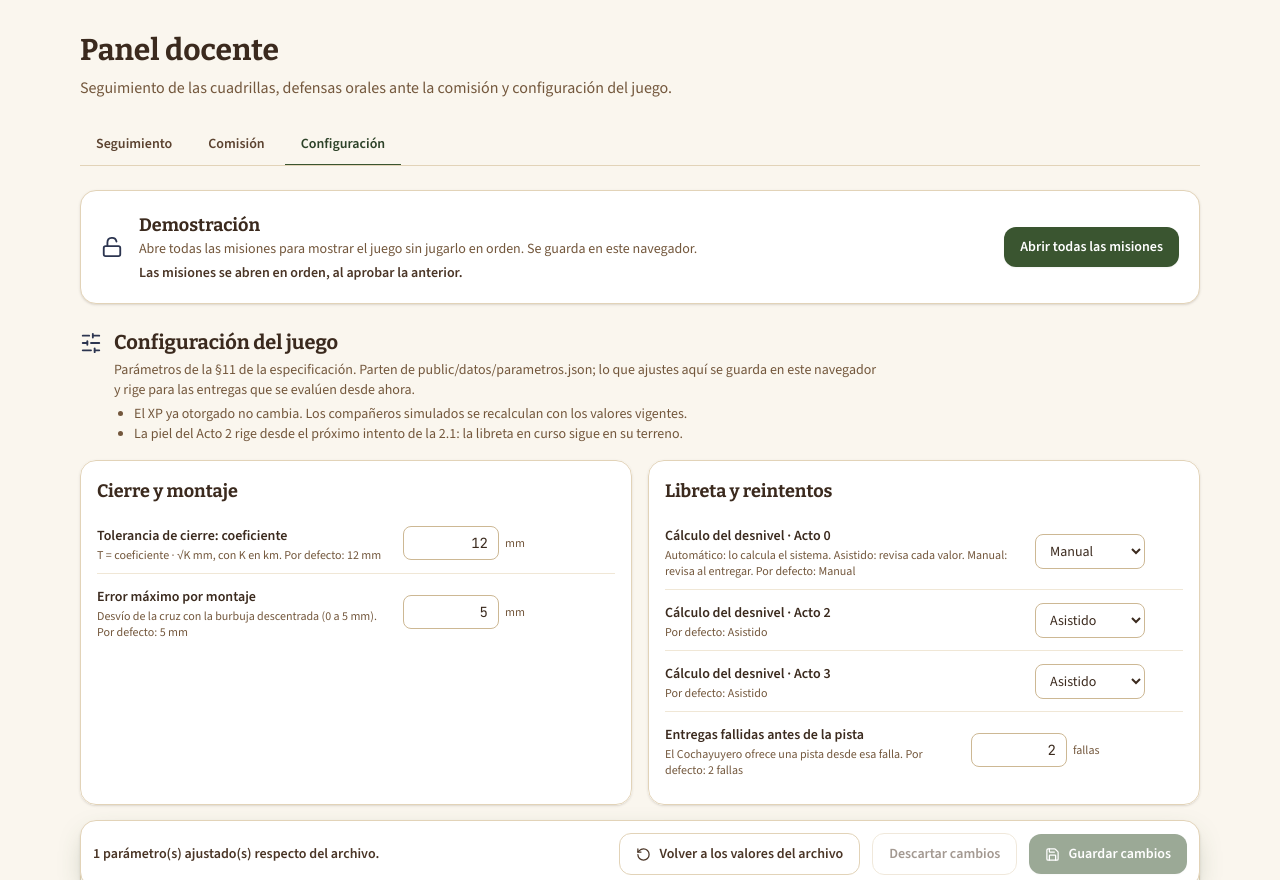
Test case: Panel docente · configuración › restablece todo a los valores del archivo tras confirmar
Click the button "Volver a los valores del archivo" at (740,854), box [619,833,860,875]
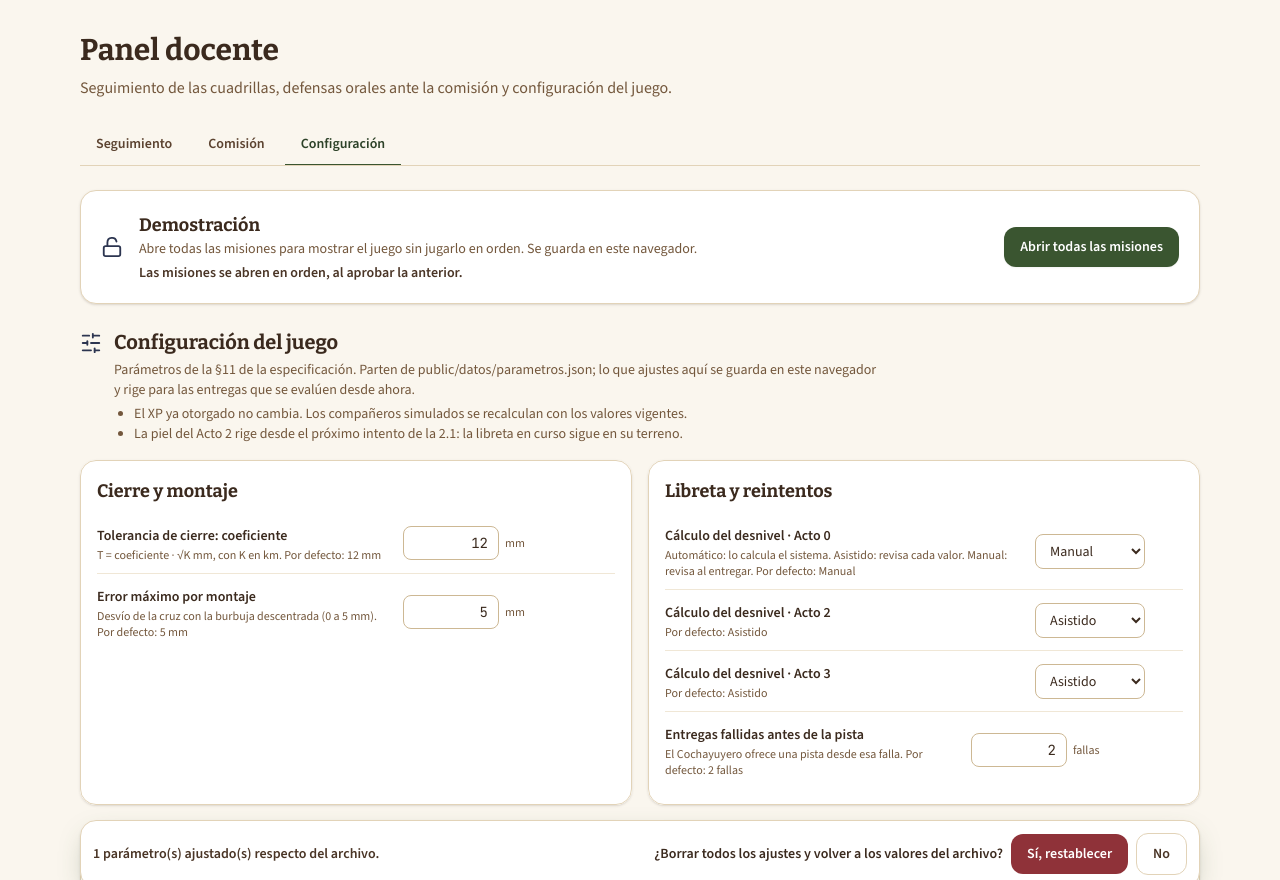
Click the button "Sí, restablecer" at (1070,854), box [1011,834,1128,874]
(page scrolled)
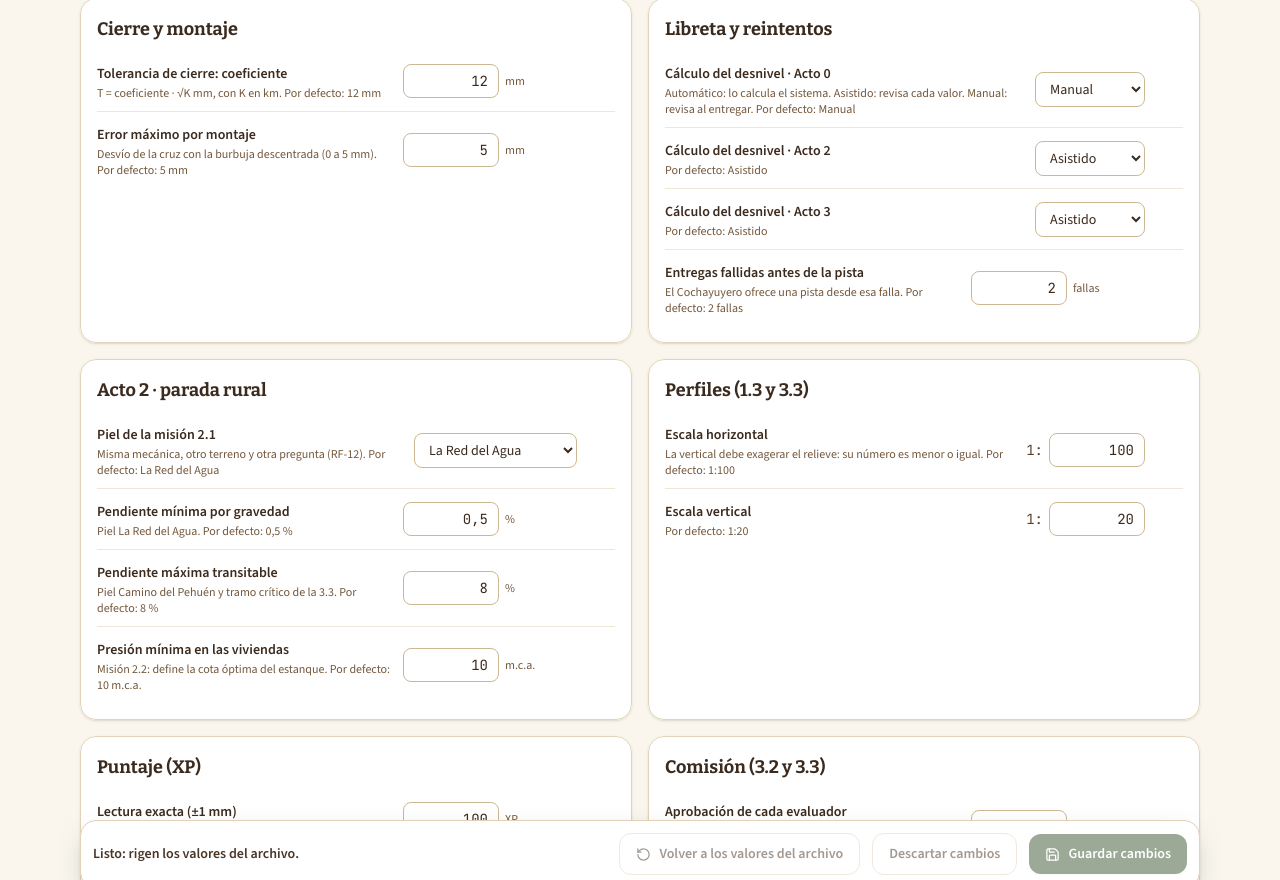
Expected: the dropdown labelled "Piel de la misión 2.1" shows "La Red del Agua", [414,432,577,468]
